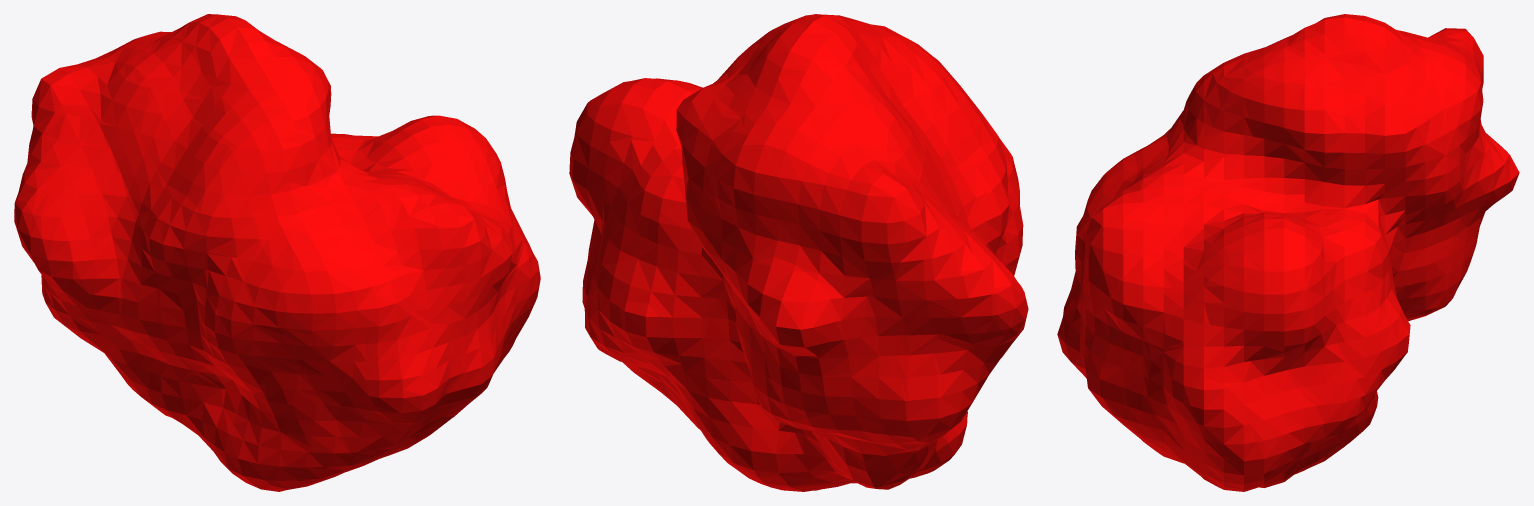
Rendered from murI_coarse.dae.
3 renders of one model, left to right at view 1: azimuth 30°, elevation 25°; view 2: azimuth 150°, elevation 25°; view 3: azimuth 270°, elevation 25°, orthographic. The views are drawn at different scales.
Visible parts, largest first — view 1: murI; view 2: murI; view 3: murI.
Boxes of the visible parts, x1,y1,x2,y2 form: murI: [14, 14, 540, 491]; murI: [569, 14, 1028, 491]; murI: [1057, 14, 1519, 491].
Size of the model in its own units: 56.95 by 52.69 by 51.86.
